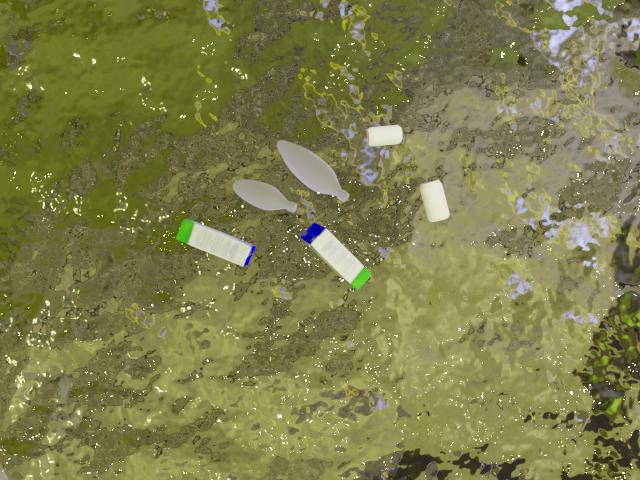Metal: (414, 171, 458, 236), (355, 117, 414, 159)
Plastic: (269, 126, 369, 205), (220, 168, 316, 217)
Trash: (164, 216, 259, 281), (302, 224, 378, 300)
